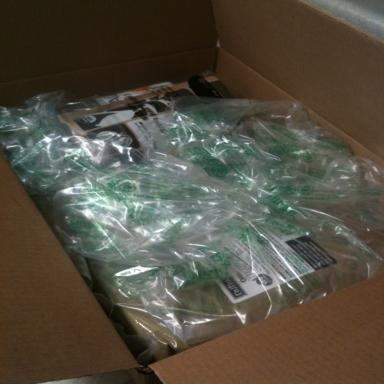plasticbag: (0, 77, 382, 366)
